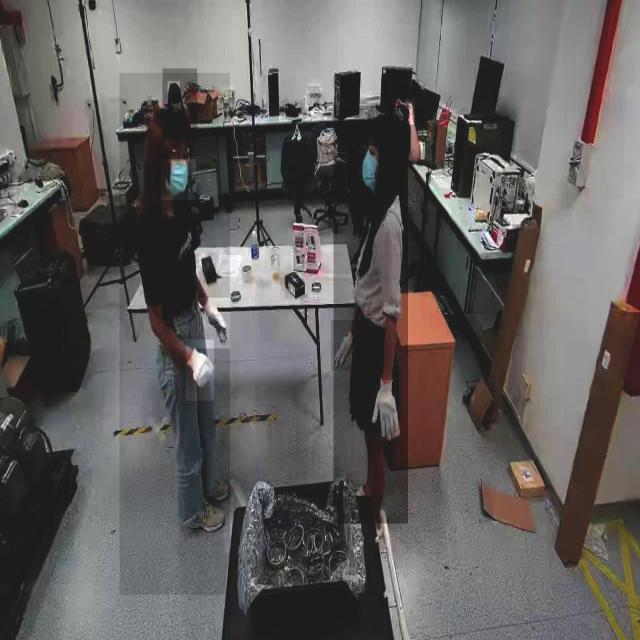face_mask: (161, 159, 195, 200), (358, 146, 383, 194), (166, 94, 183, 118)
hand_glove: (370, 372, 398, 442), (186, 339, 214, 402), (198, 298, 230, 348), (331, 320, 356, 372)
hand_noglove: (406, 99, 416, 125)
head_nohelmet: (145, 108, 189, 138), (368, 110, 408, 134), (395, 86, 411, 100), (168, 81, 180, 93)
person: (120, 73, 230, 595), (334, 106, 408, 524), (162, 68, 198, 140)
shoes: (183, 496, 226, 535), (196, 463, 229, 501)
